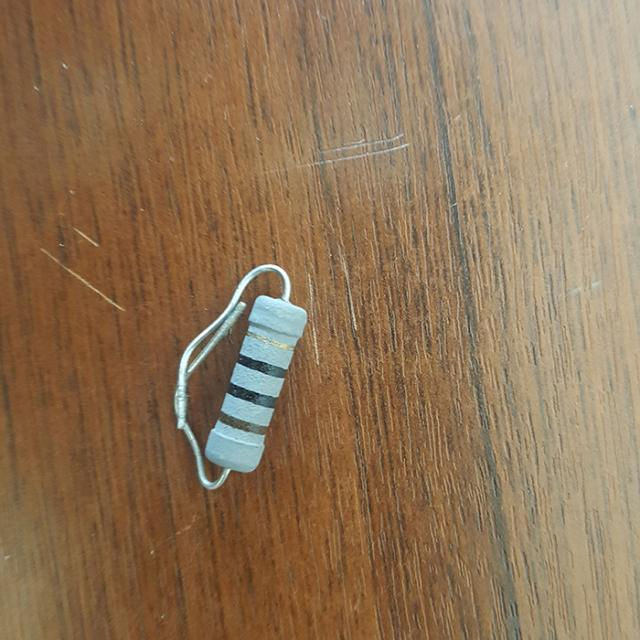black: (229, 381, 276, 407), (239, 353, 285, 376)
brown: (219, 411, 267, 433)
gold: (248, 331, 293, 349)
resistor: (190, 286, 318, 483)
